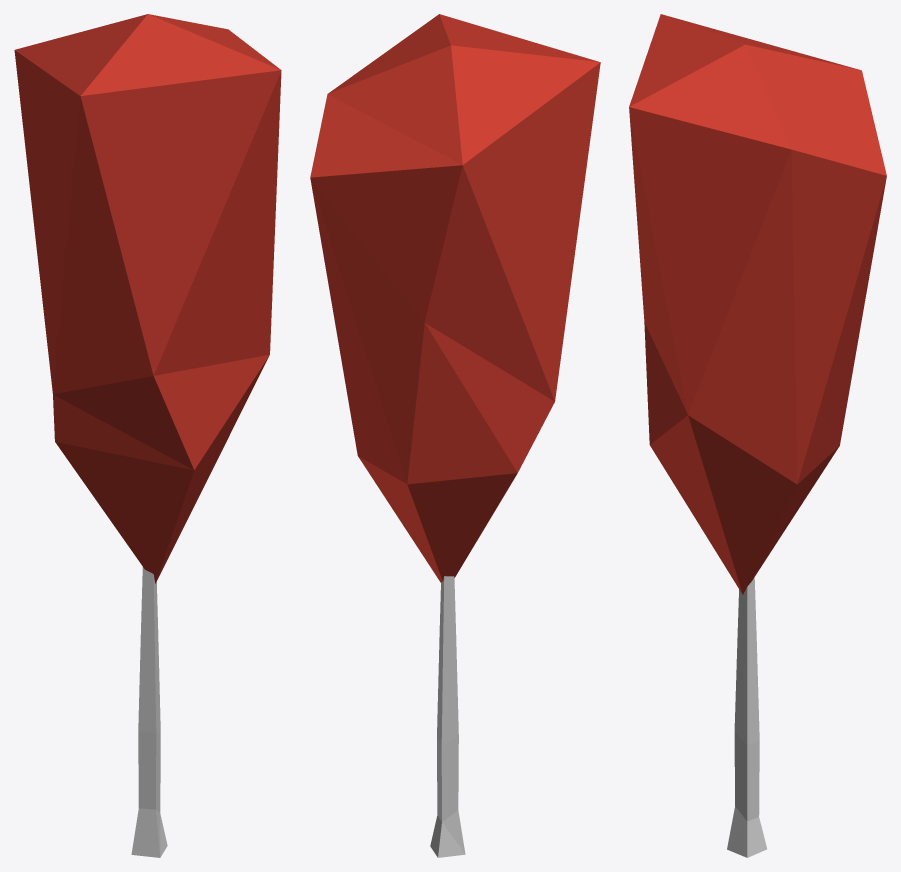
Rendered from world_2_tree_small.dae.
3 views of the same model, side by side, from view 1: azimuth 30°, elevation 25°; view 2: azimuth 150°, elevation 25°; view 3: azimuth 270°, elevation 25° (orthographic). The views are drawn at different scales.
Visible parts, largest first — view 1: small_red_leaves, small_red_base; view 2: small_red_leaves, small_red_base; view 3: small_red_leaves, small_red_base.
Part boxes in pixels (<box>): small_red_leaves: <box>14,14,281,583</box>; small_red_base: <box>131,567,167,857</box>; small_red_leaves: <box>310,14,600,582</box>; small_red_base: <box>430,576,465,857</box>; small_red_leaves: <box>629,14,886,594</box>; small_red_base: <box>727,577,766,857</box>.
Size of the model in its own units: 0.9196 by 0.9907 by 3.41.
